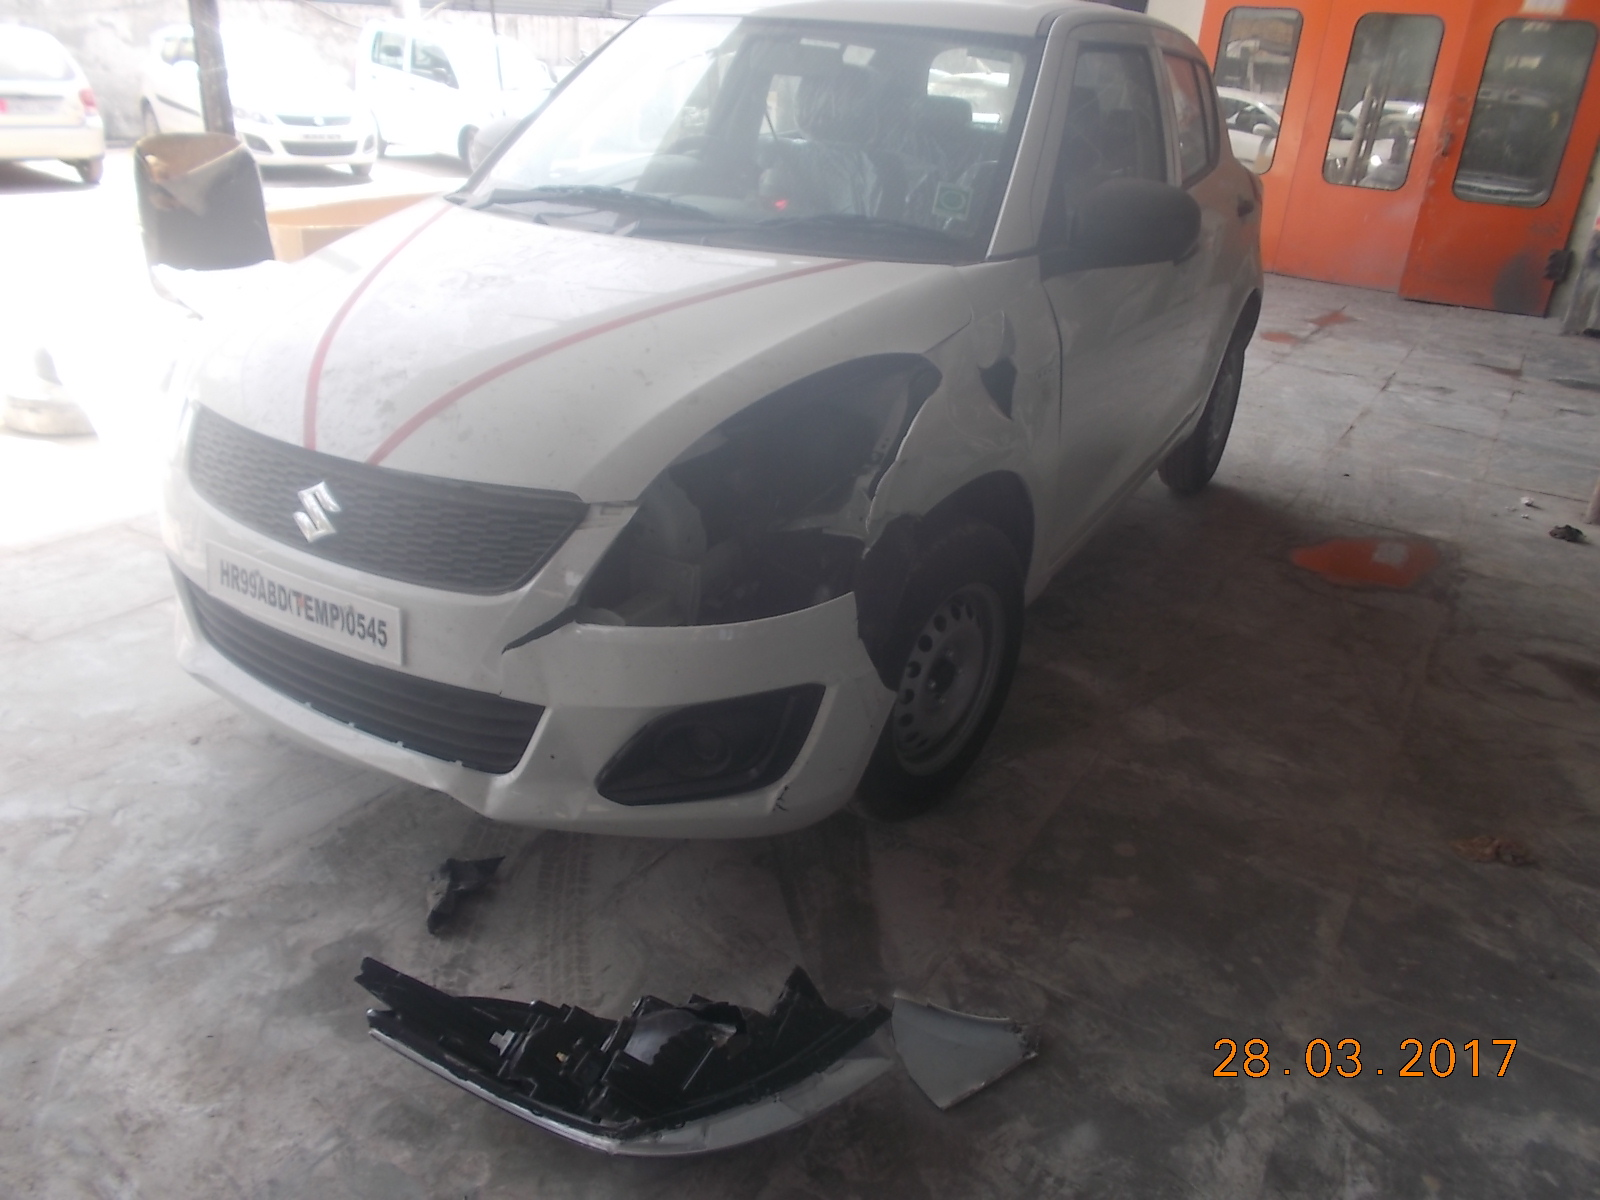Tear: (842, 584, 907, 722), (491, 595, 583, 661), (981, 354, 1023, 441)
